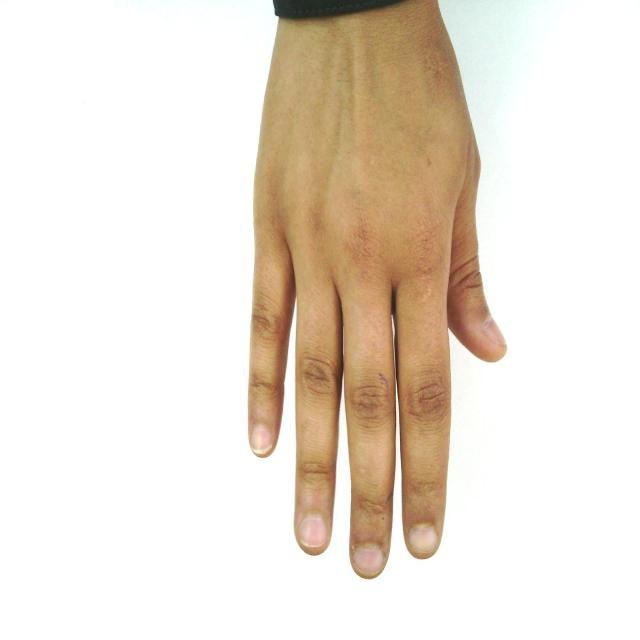Fingernail: (410, 525, 437, 555), (301, 516, 327, 546), (355, 547, 382, 574), (485, 315, 506, 346), (252, 428, 272, 453)
